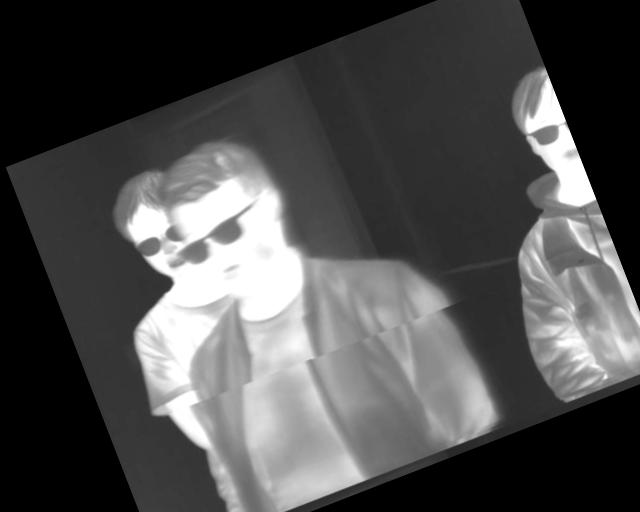face: (150, 122, 310, 312), (98, 162, 200, 293), (499, 63, 584, 187)
